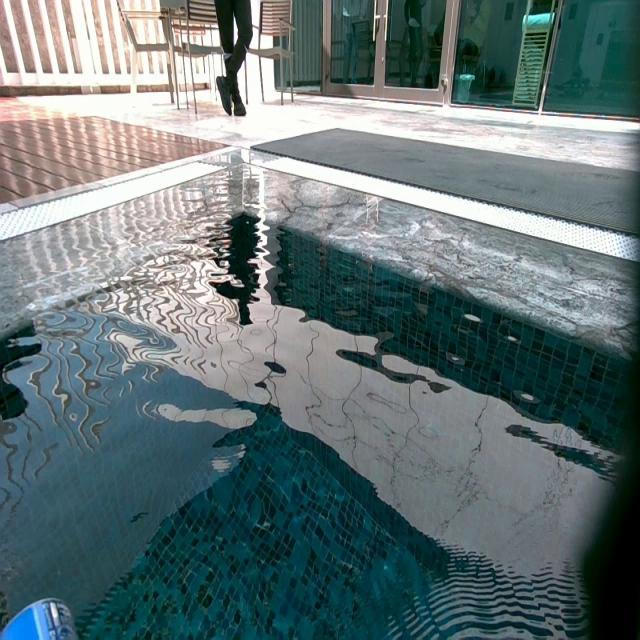Cans: (2, 593, 82, 636)
